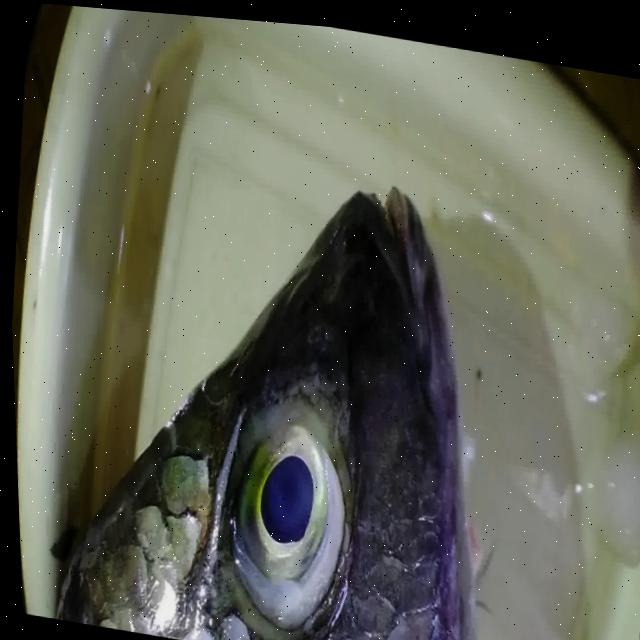Fresh: (185, 383, 399, 640)
